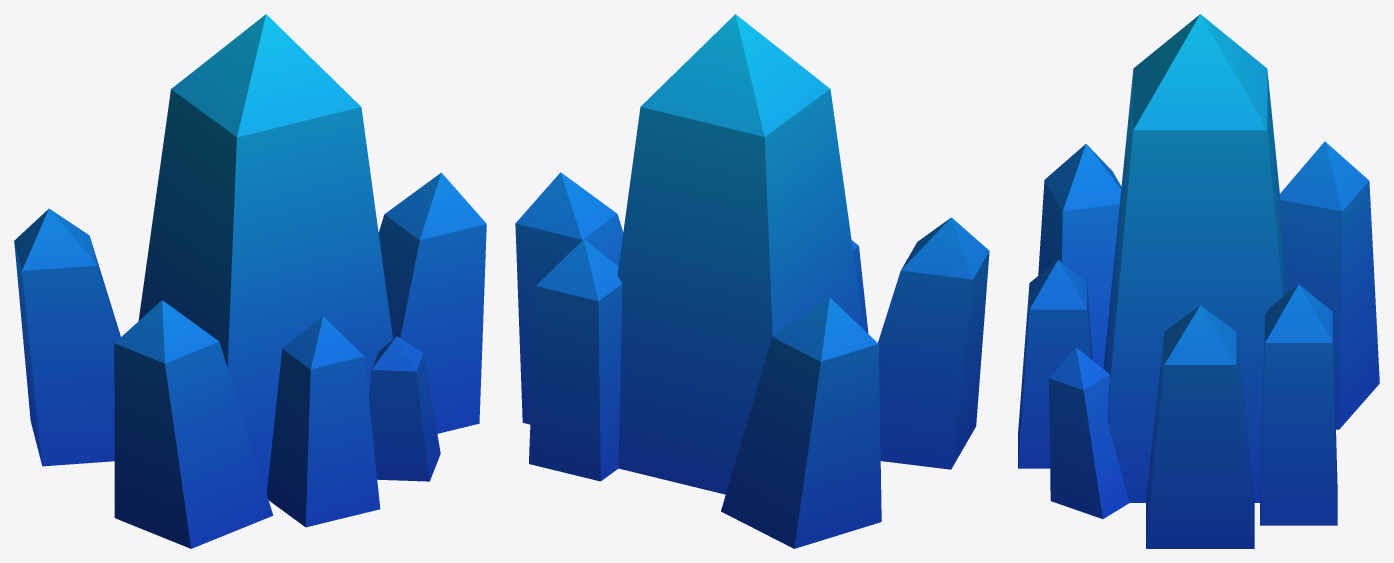
The model's file is crystal_26.glb.
3 renders of one model, left to right at view 1: azimuth 30°, elevation 25°; view 2: azimuth 150°, elevation 25°; view 3: azimuth 270°, elevation 25°, orthographic.
Visible parts, largest first — view 1: crystal_26; view 2: crystal_26; view 3: crystal_26.
Part boxes in pixels (<box>): crystal_26: <box>14,14,486,548</box>; crystal_26: <box>515,14,989,548</box>; crystal_26: <box>1018,14,1379,548</box>.
Size of the model in its own units: 0.8469 by 0.8861 by 0.6564.
1 material, 1 textured.
